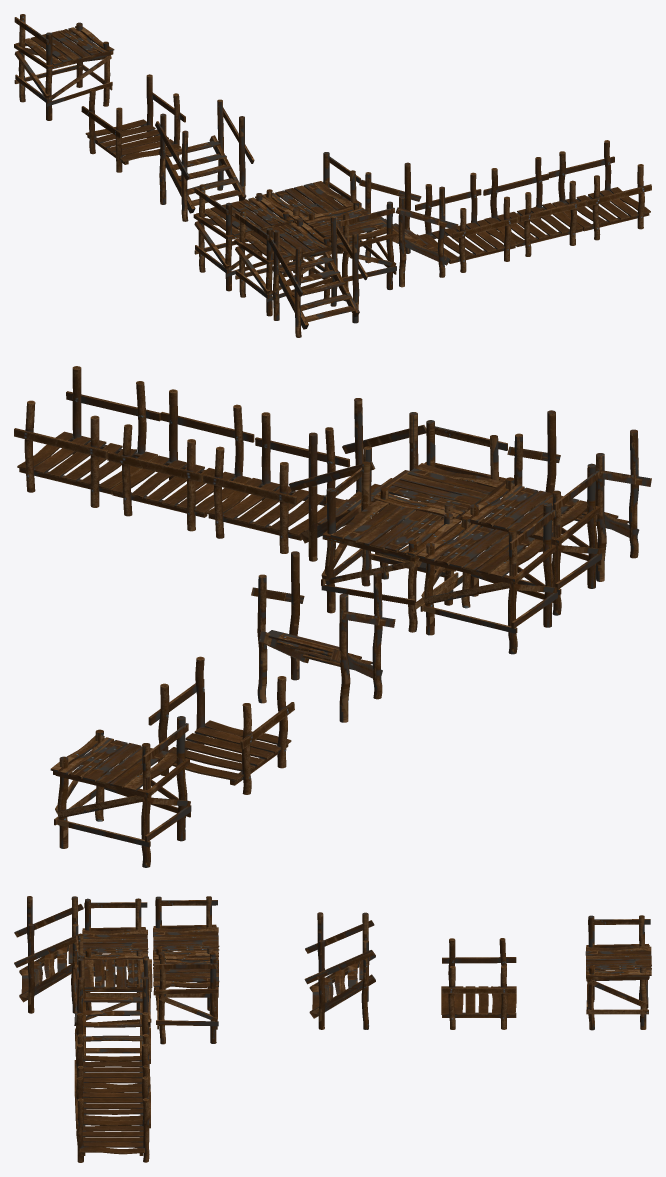
The model's file is boardwalk.glb.
3 renders of one model, top to bottom at view 1: azimuth 30°, elevation 25°; view 2: azimuth 150°, elevation 25°; view 3: azimuth 270°, elevation 25°, orthographic. The views are drawn at different scales.
Visible parts, largest first — view 1: 01_2_2, 02, 02_2, 01_3, 01_2, 03, 03_1, 03_2, 03_2_2, 01_1, 02_1, 01; view 2: 01_2_2, 01_2, 01, 03_1, 03, 03_2_2, 03_2, 01_3, 02_2, 01_1, 02_1, 02; view 3: 01_2_2, 01, 02_2, 03_2_2, 02, 03_1, 01_3, 02_1, 01_2, 01_1, 03, 03_2.
Boxes of the visible parts, box(x1,y1,x2,y2) form: 01_2_2: box(14, 14, 114, 120); 02: box(268, 215, 367, 337); 02_2: box(155, 99, 254, 221); 01_3: box(234, 209, 331, 316); 01_2: box(193, 184, 293, 291); 03: box(483, 157, 586, 256); 03_1: box(548, 140, 651, 240); 03_2: box(415, 172, 518, 272); 03_2_2: box(81, 74, 185, 172); 01_1: box(302, 201, 396, 301); 02_1: box(359, 162, 458, 287); 01: box(262, 152, 361, 273); 01_2_2: box(50, 716, 191, 867); 01_2: box(417, 502, 557, 654); 01: box(321, 461, 461, 632); 03_1: box(14, 366, 160, 507); 03: box(107, 389, 254, 531); 03_2_2: box(148, 656, 294, 794); 03_2: box(203, 412, 350, 553); 01_3: box(461, 463, 601, 615); 02_2: box(251, 551, 395, 722); 01_1: box(373, 420, 507, 591); 02_1: box(289, 398, 426, 569); 02: box(507, 410, 651, 581); 01_2_2: box(585, 915, 651, 1030); 01: box(153, 952, 219, 1044); 02_2: box(304, 912, 375, 1029); 03_2_2: box(441, 938, 516, 1029); 02: box(14, 896, 83, 1013); 03_1: box(75, 1076, 150, 1162); 01_3: box(82, 898, 148, 1010); 02_1: box(74, 958, 151, 1055); 01_2: box(153, 896, 219, 1010); 01_1: box(73, 934, 152, 1026); 03: box(74, 1044, 150, 1120); 03_2: box(75, 1012, 150, 1088).
Size of the model in its own units: 11.5 by 2.5 by 16.56.
Materials: 3 (3 with a texture image).
